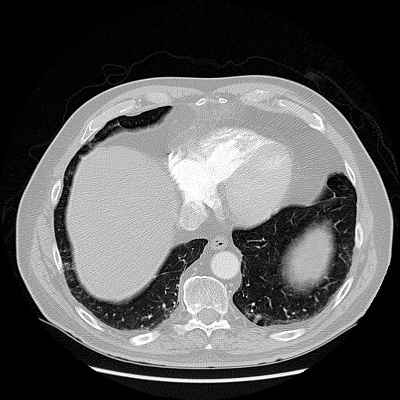PN: (253, 314, 261, 322)
